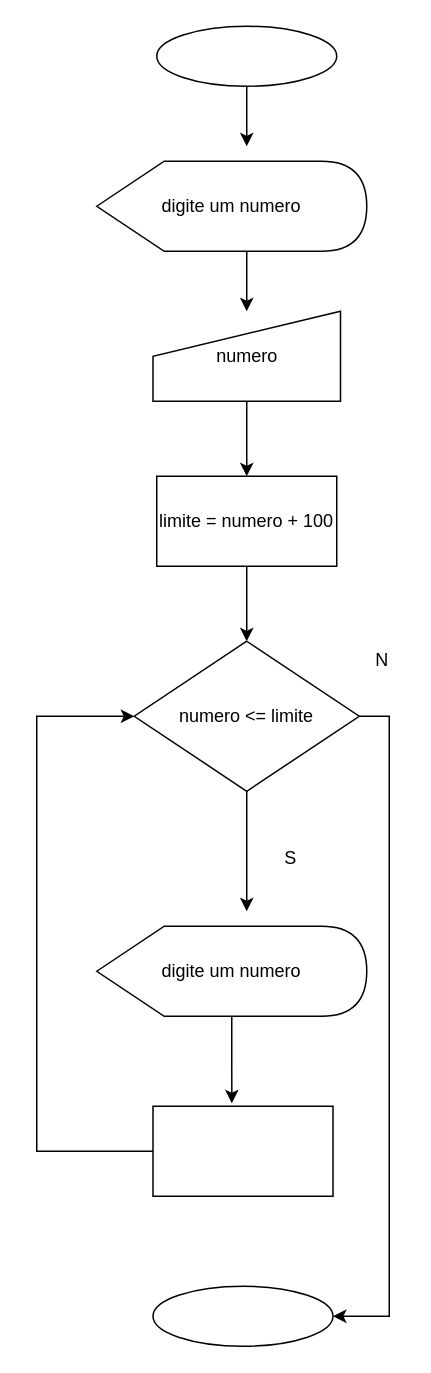
The diagram is 431 pixels wide and 1373 high, and some of its shapes have lost their labels. The shapes that lost their labels are listed below. From the top down, each one's centre as x and y in pixels, then its label:
At (x=246, y=55): "inicio".
At (x=242, y=1150): "numero++".
At (x=242, y=1315): "fim".
